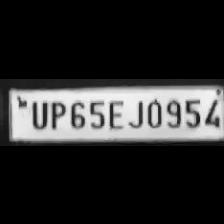0: (144, 96, 164, 128)
4: (202, 94, 222, 128)
5: (180, 94, 202, 128), (86, 96, 106, 128)
6: (66, 97, 86, 128)
9: (162, 94, 182, 128)
E: (105, 96, 124, 128)
J: (125, 96, 144, 128)
P: (46, 97, 66, 128)
U: (27, 97, 49, 128)
